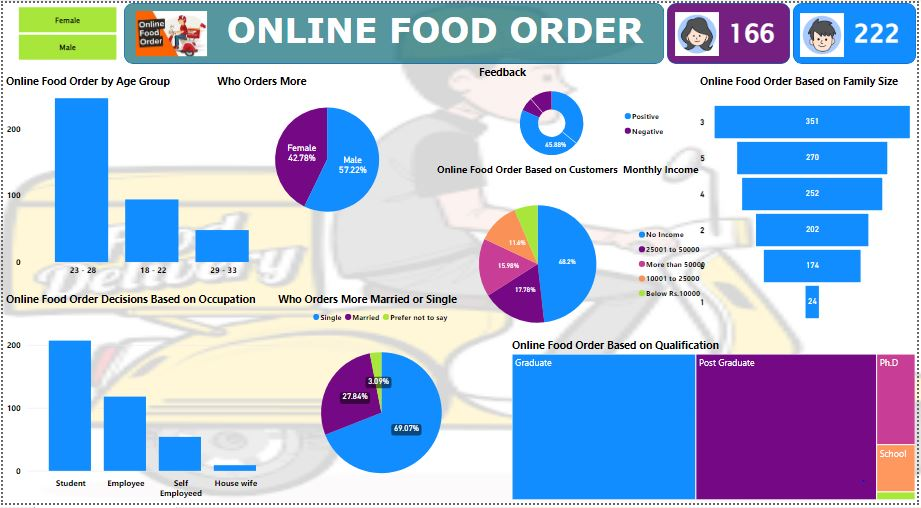

What the dashboard file says about the page in this screenshot:
{"tool":"powerbi","page":{"name":"Online Food Order","canvas":[1500,820],"ordinal":0},"visuals":[{"type":"clusteredColumnChart","title":"Online Food Order by Age Group","fields":{"Category":["onlinefoods.Age Group"],"Y":["CountNonNull(onlinefoods.Gender)"]},"box":[0,114.8,459.2,341.1],"z":0},{"type":"shape","box":[198.4,0,885.6,100],"z":1000},{"type":"textbox","box":[346,4.9,724.9,83.6],"z":2000},{"type":"pieChart","title":"Who Orders More","fields":{"Category":["onlinefoods.Gender"],"Y":["CountNonNull(onlinefoods.Gender)"]},"box":[346,114.8,370.6,260.8],"z":3000},{"type":"funnel","title":"Online Food Order Based on Family Size","fields":{"Y":["Sum(onlinefoods.Family size)"],"Category":["onlinefoods.Family size"]},"box":[1138.2,114.8,359.2,433],"z":4000},{"type":"pieChart","title":"Who Orders More Married or Single","fields":{"Category":["onlinefoods.Marital Status"],"Y":["CountNonNull(onlinefoods.Marital Status)"]},"box":[446.1,472.3,349.3,347.7],"z":5000},{"type":"treemap","title":"Online Food Order Based on Qualification","fields":{"Group":["onlinefoods.Educational Qualifications"],"Values":["CountNonNull(onlinefoods.Educational Qualifications)"]},"box":[829.8,547.8,670.8,272.2],"z":6000},{"type":"pieChart","title":"Online Food Order Based on Customers  Monthly Income","fields":{"Category":["onlinefoods.Monthly Income"],"Y":["CountNonNull(onlinefoods.Monthly Income)"]},"box":[706.8,262.4,459.2,310],"z":7000},{"type":"clusteredColumnChart","title":"Online Food Order Decisions Based on Occupation","fields":{"Category":["onlinefoods.Occupation"],"Y":["CountNonNull(onlinefoods.Occupation)"]},"box":[0,472.3,459.2,347.7],"z":8000},{"type":"donutChart","title":"Feedback","fields":{"Y":["CountNonNull(onlinefoods.Feedback)"],"Category":["onlinefoods.Feedback"],"Series":["onlinefoods.Gender"]},"box":[775.7,100,321.4,170.6],"z":9000},{"type":"slicer","fields":{"Values":["onlinefoods.Gender"]},"box":[0,0,209.9,100],"z":11000},{"type":"shape","box":[1089,0,201.7,100],"z":12000},{"type":"image","box":[206.6,8.2,139.4,83.6],"z":13000},{"type":"image","box":[1097.2,4.9,82,91.8],"z":14000},{"type":"shape","box":[1295.6,0,201.7,100],"z":15000},{"type":"card","fields":{"Values":["onlinefoods.Count of Gender for Female"]},"box":[1179.2,3.3,98.4,88.6],"z":16000},{"type":"image","box":[1302.2,6.6,82,91.8],"z":17000},{"type":"card","fields":{"Values":["onlinefoods.Count of Gender for Male"]},"box":[1384.2,8.2,98.4,80.4],"z":17500}]}

Visuals, with their boxes in screenshot pixels (x1, y1, x2, y2), scaled from the page's 1500x820 canvas onto the 921x508 screenshot:
"Online Food Order by Age Group" clusteredColumnChart: Rect(0, 71, 282, 282)
shape: Rect(122, 0, 666, 62)
textbox: Rect(212, 3, 658, 55)
"Who Orders More" pieChart: Rect(212, 71, 440, 233)
"Online Food Order Based on Family Size" funnel: Rect(699, 71, 919, 339)
"Who Orders More Married or Single" pieChart: Rect(274, 293, 488, 507)
"Online Food Order Based on Qualification" treemap: Rect(509, 339, 920, 507)
"Online Food Order Based on Customers  Monthly Income" pieChart: Rect(434, 163, 716, 355)
"Online Food Order Decisions Based on Occupation" clusteredColumnChart: Rect(0, 293, 282, 507)
"Feedback" donutChart: Rect(476, 62, 674, 168)
slicer - onlinefoods.Gender: Rect(0, 0, 129, 62)
shape: Rect(669, 0, 792, 62)
image: Rect(127, 5, 212, 57)
image: Rect(674, 3, 724, 60)
shape: Rect(795, 0, 919, 62)
card - onlinefoods.Count of Gender for Female: Rect(724, 2, 784, 57)
image: Rect(800, 4, 850, 61)
card - onlinefoods.Count of Gender for Male: Rect(850, 5, 910, 55)
